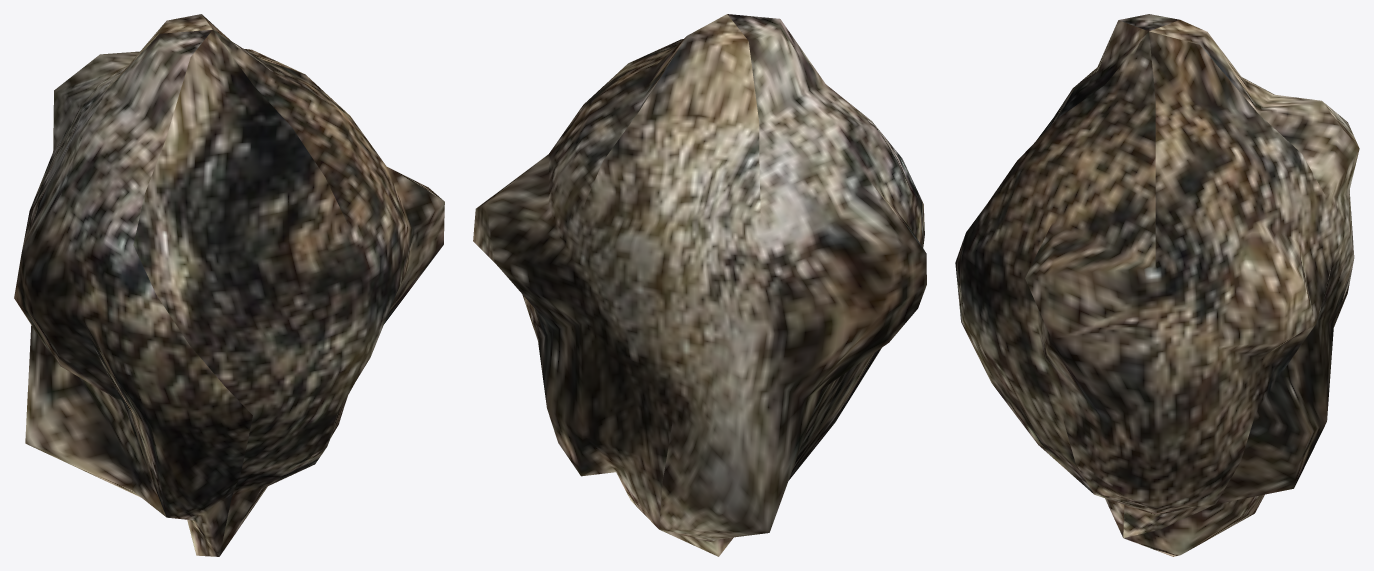
The model's file is reroute_asteroid.fbx.
3 views of the same model, side by side, from view 1: azimuth 30°, elevation 25°; view 2: azimuth 150°, elevation 25°; view 3: azimuth 270°, elevation 25° (orthographic).
Parts seen in each view (by area): view 1: Icosphere; view 2: Icosphere; view 3: Icosphere.
Part boxes in pixels (bbox=[...]): Icosphere: bbox=[14, 14, 444, 556]; Icosphere: bbox=[473, 14, 926, 556]; Icosphere: bbox=[955, 14, 1359, 556].
Size of the model in its own units: 1932 by 2600 by 1806.
Materials: 1 (1 with a texture image).
